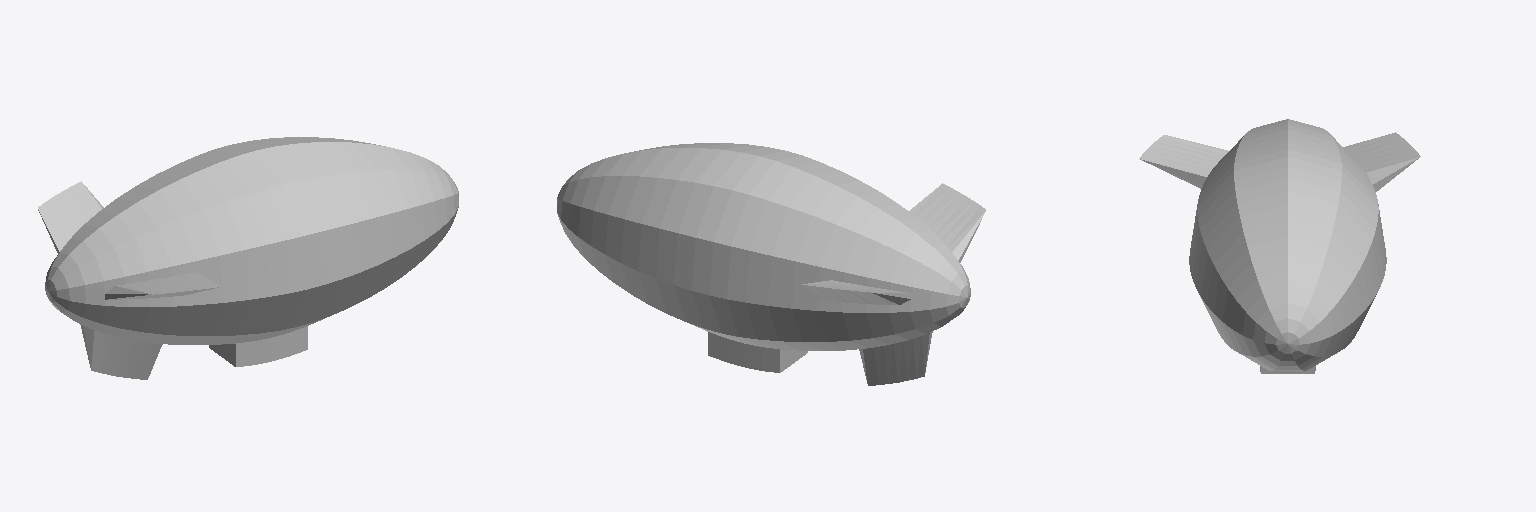
File: blimp.obj
3 renders of one model, left to right at view 1: azimuth 30°, elevation 25°; view 2: azimuth 150°, elevation 25°; view 3: azimuth 270°, elevation 25°, orthographic.
Visible parts, largest first — view 1: Blimp; view 2: Blimp; view 3: Blimp.
Boxes of the visible parts, box(x1,y1,x2,y2) form: Blimp: box(38, 137, 458, 379); Blimp: box(557, 143, 985, 385); Blimp: box(1139, 119, 1420, 373).
Size of the model in its own units: 6.92 by 3.3 by 4.15.